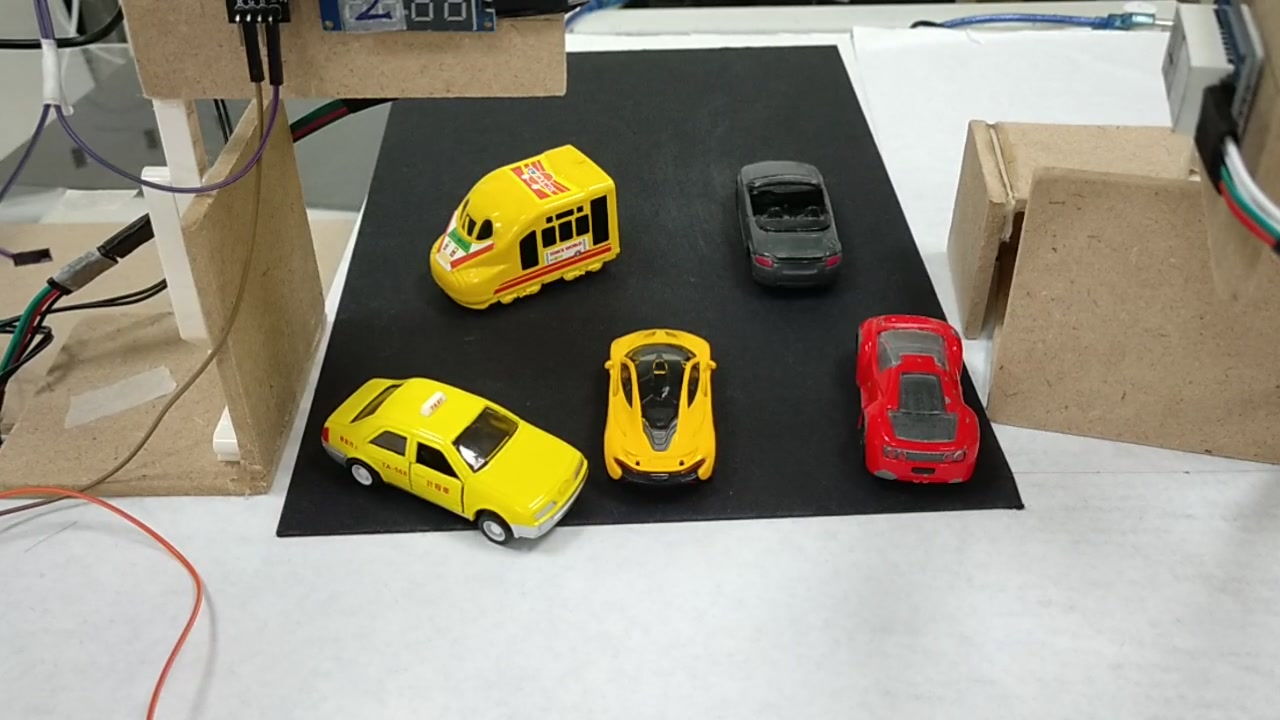car: (317, 370, 589, 550), (857, 313, 978, 493), (608, 327, 713, 488), (726, 157, 848, 290)
